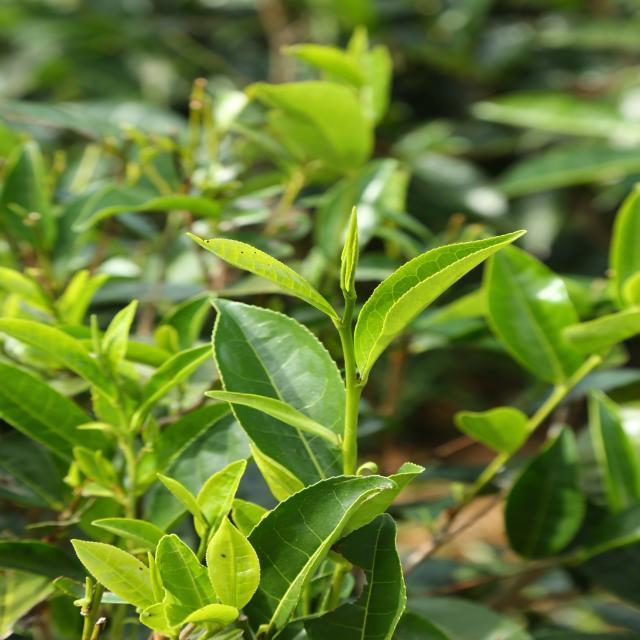Stem: (346, 384, 359, 419), (117, 406, 130, 431), (199, 530, 211, 553)
